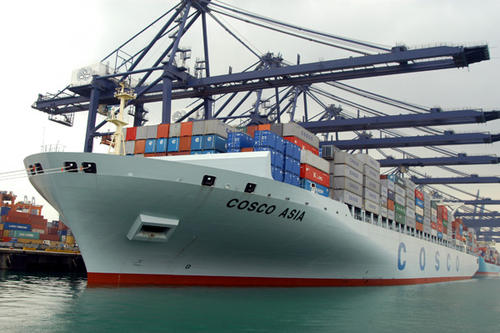Cargoship: (14, 72, 485, 281)
